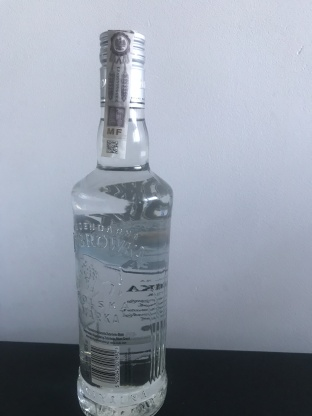nakretka: (97, 26, 148, 113)
